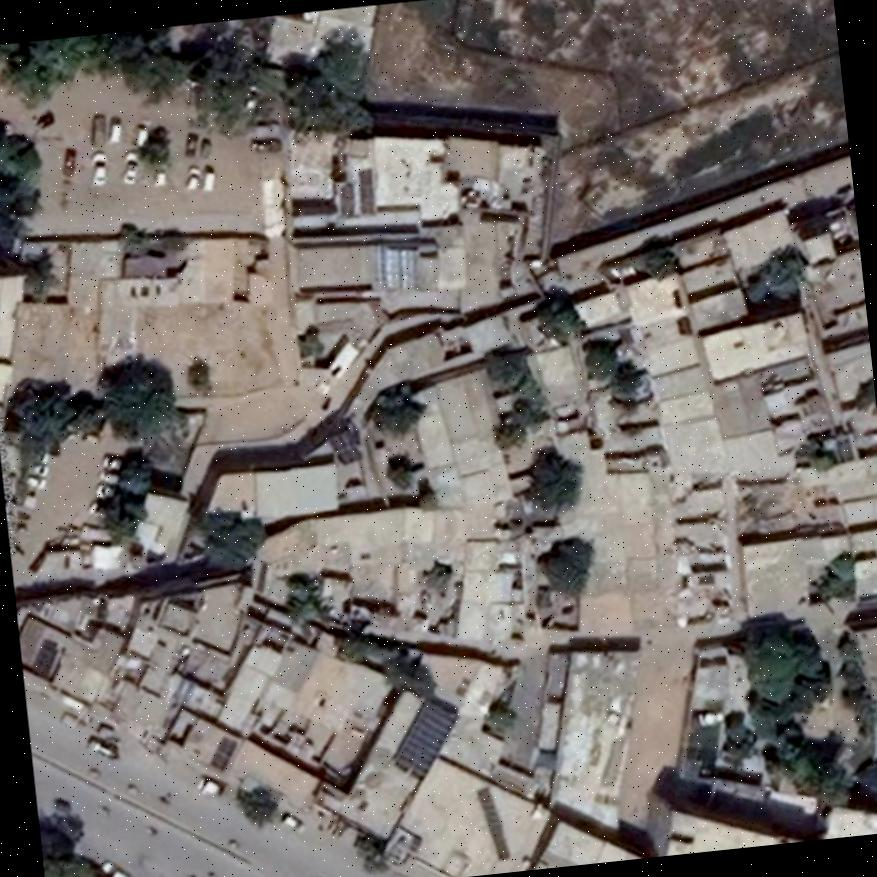Solarpanel: (395, 697, 458, 779), (209, 734, 239, 772), (32, 642, 57, 682), (360, 165, 375, 213)
